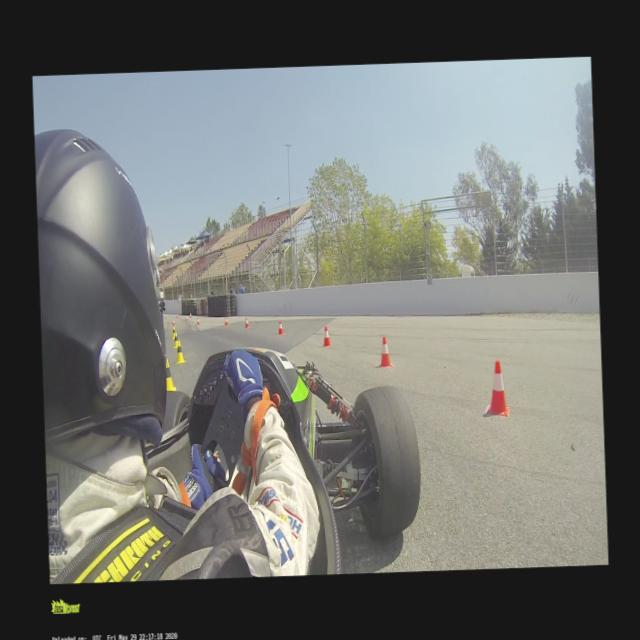orange_cone: (484, 359, 510, 416), (377, 336, 392, 368), (320, 326, 331, 348), (276, 321, 284, 335), (244, 317, 248, 328), (224, 316, 228, 326), (171, 318, 175, 326), (196, 318, 200, 326), (188, 312, 192, 318), (185, 314, 188, 321), (164, 314, 167, 318), (176, 312, 178, 318)
yellow_cone: (165, 358, 176, 390), (174, 341, 186, 364), (172, 332, 180, 348), (172, 326, 176, 340)
